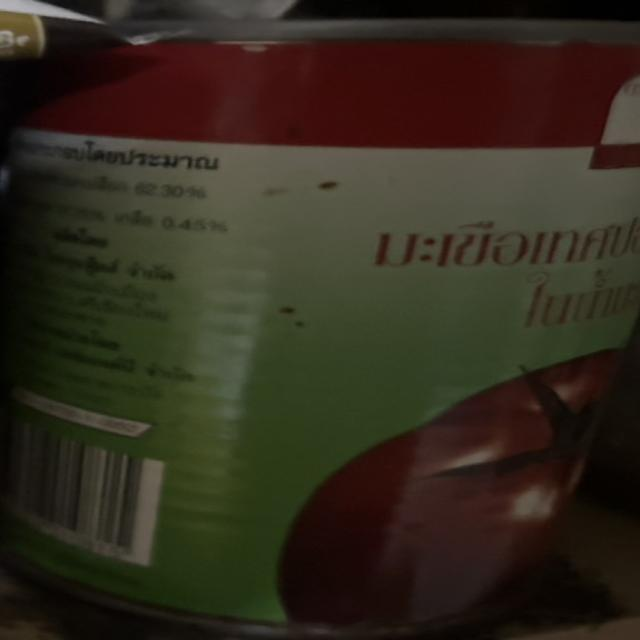can: (20, 0, 640, 625)
